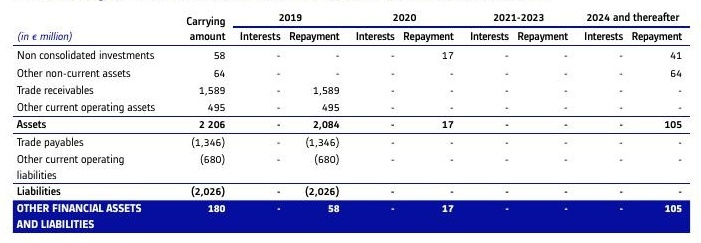table: (0, 0, 701, 243)
